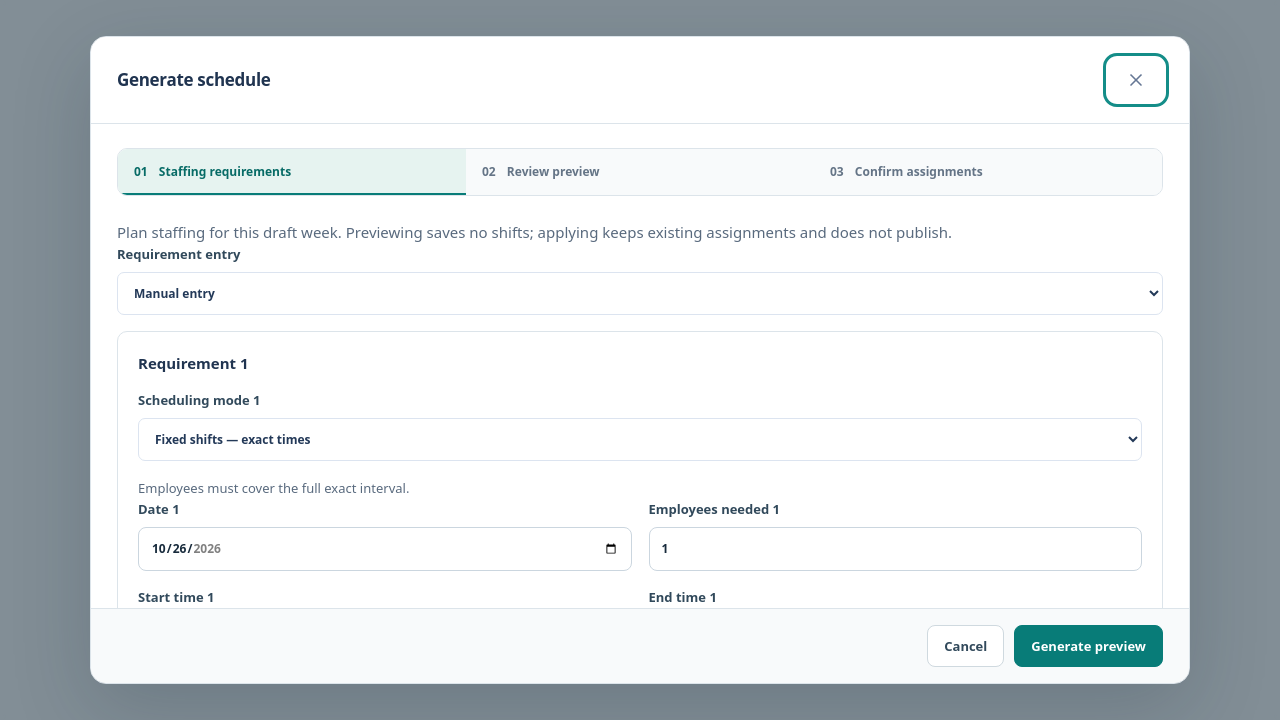
Test: rejects inverted duration limits without requesting a preview
Select "Flexible shifts — staffing window" in the dropdown labelled "Scheduling mode 1": x=640, y=440 left=138, top=418, right=1142, bottom=461
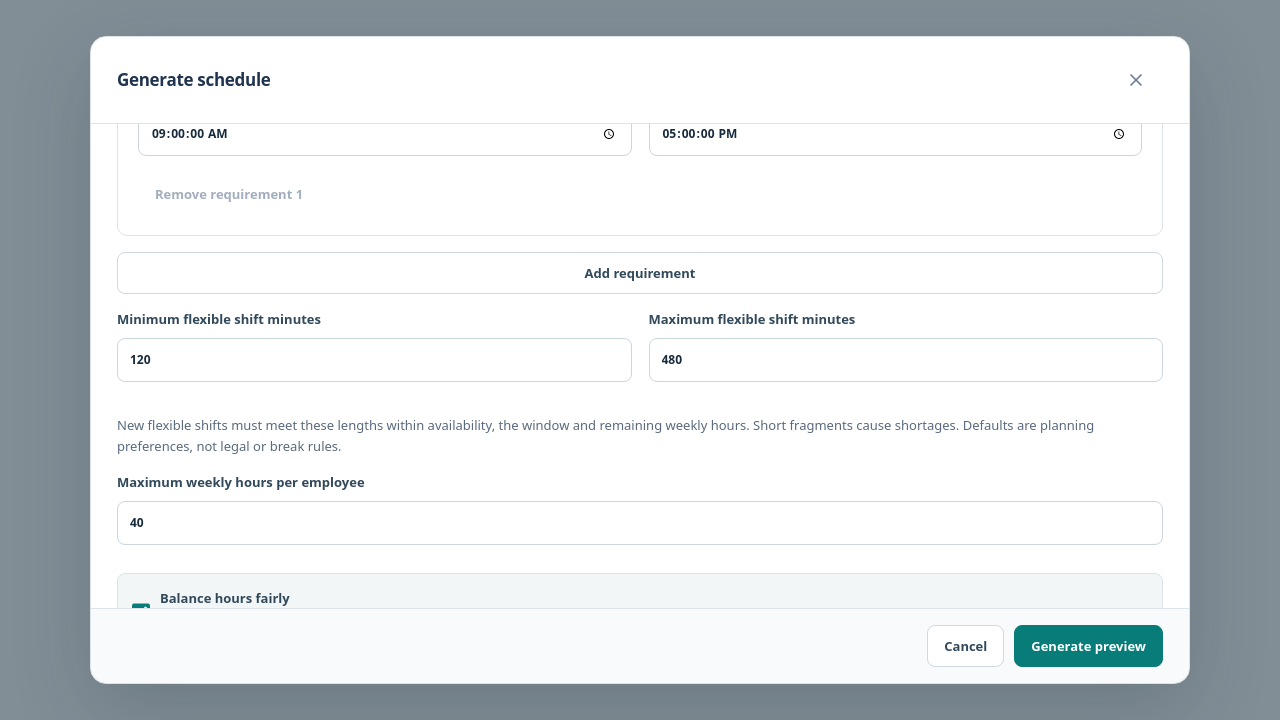
Replace the text in the number field labelled "Minimum flexible shift minutes" with "181": x=374, y=360 left=117, top=338, right=632, bottom=382
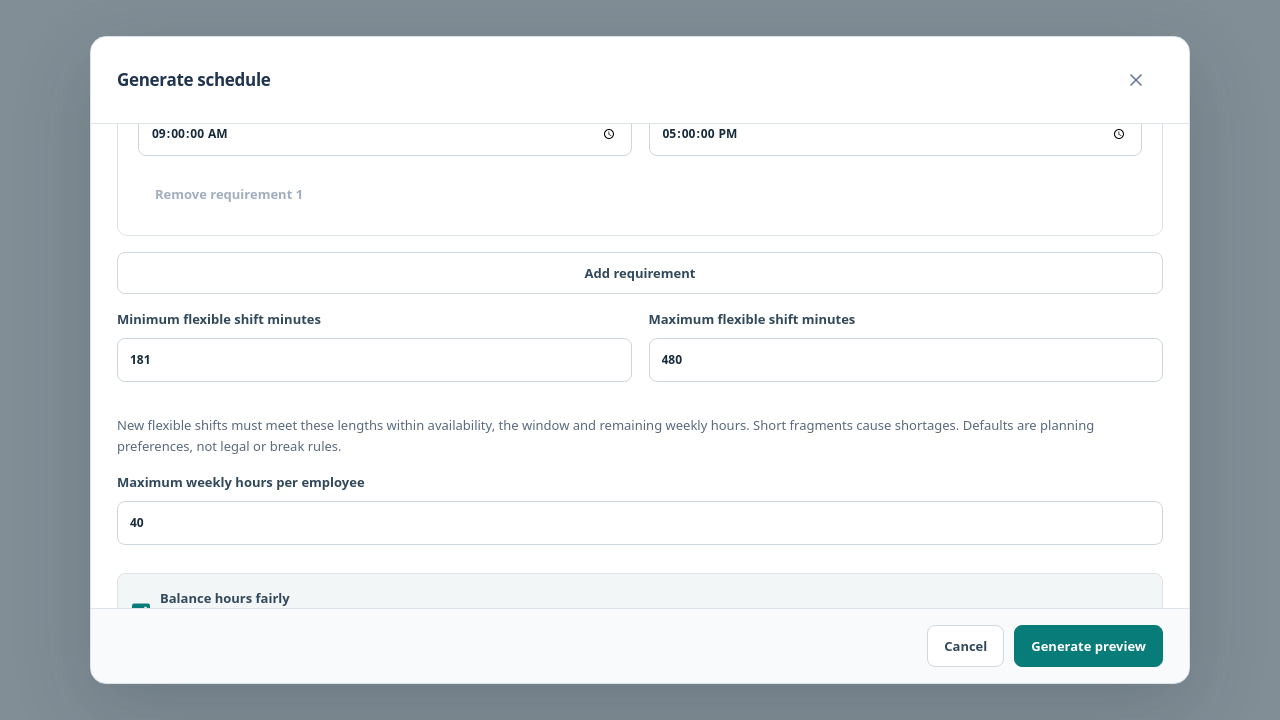
Replace the text in the number field labelled "Maximum flexible shift minutes" with "180": x=906, y=360 left=648, top=338, right=1163, bottom=382
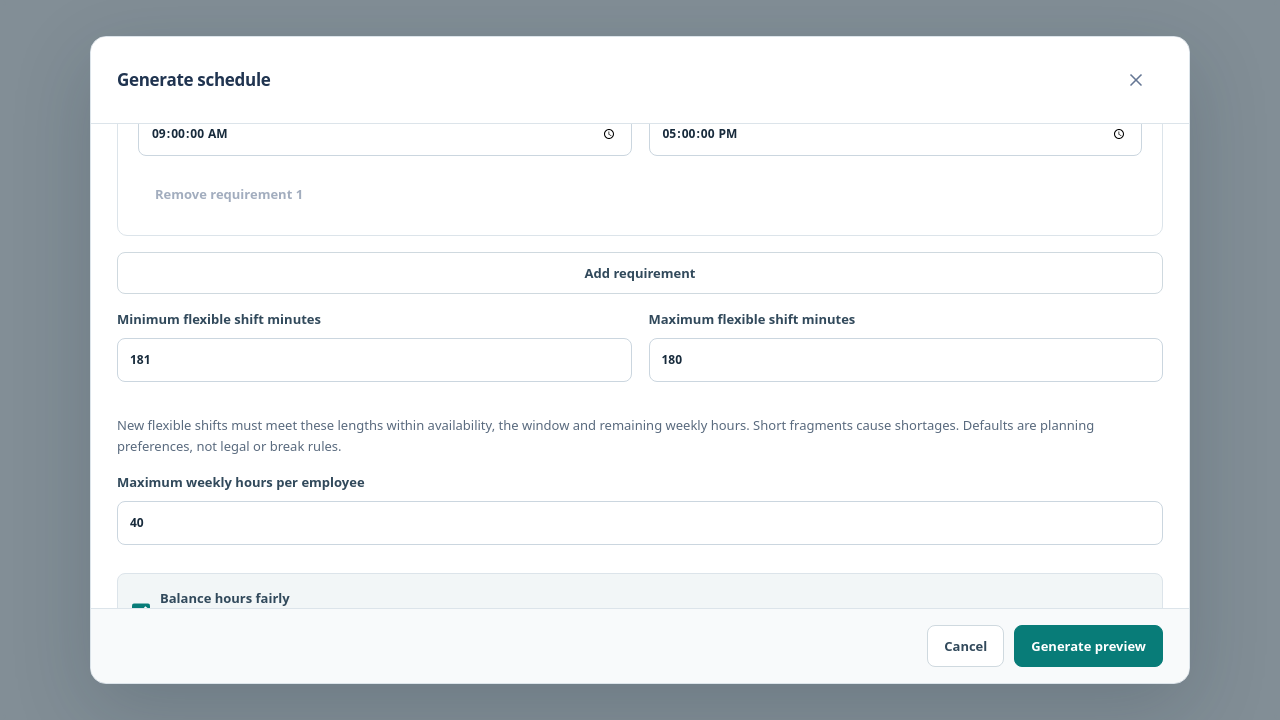
Click the button "Generate preview": x=1089, y=646 left=1014, top=625, right=1163, bottom=667
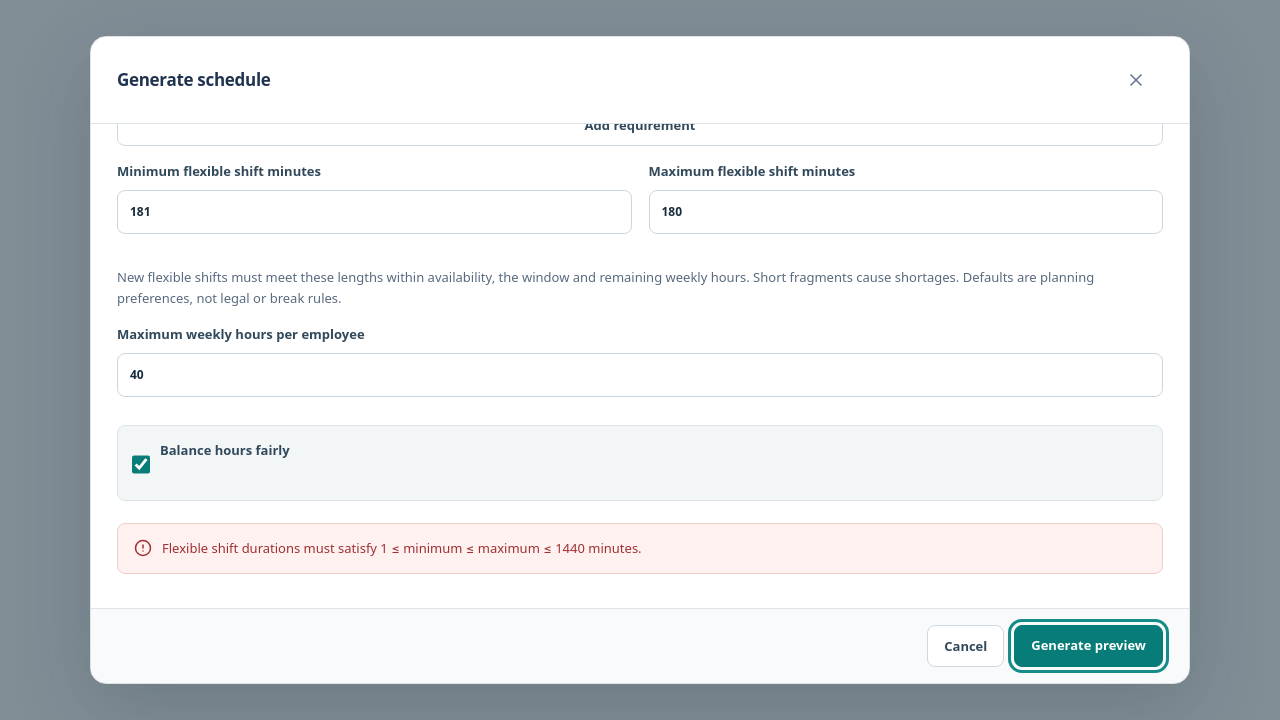
Expected: the message shows "minimum ≤ maximum", left=162, top=539, right=642, bottom=557
